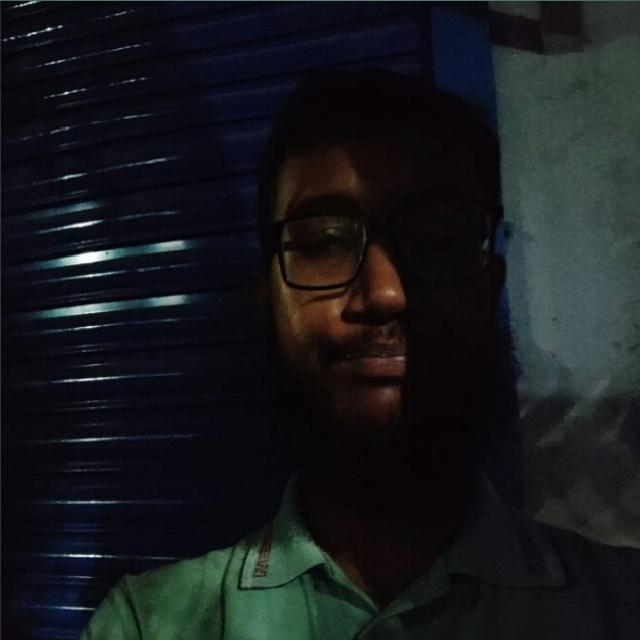Sad: (226, 90, 520, 462)
